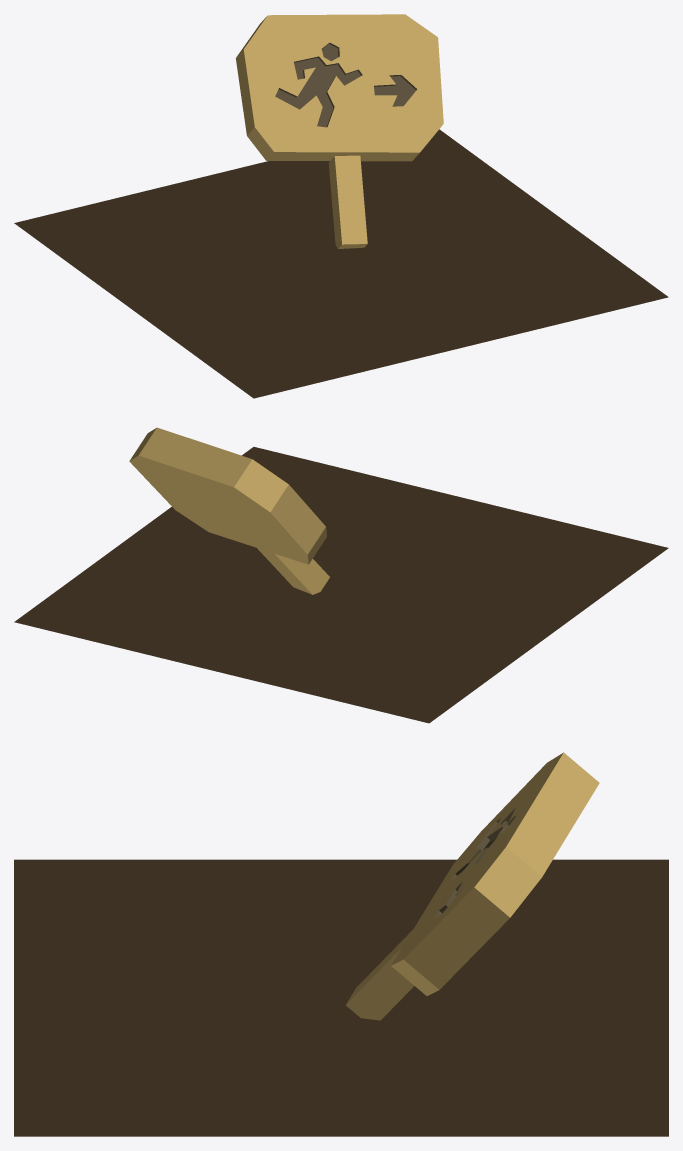
Rendered from ExitFloor.fbx.
The picture shows the model from 3 angles, top to bottom: view 1: azimuth 30°, elevation 25°; view 2: azimuth 150°, elevation 25°; view 3: azimuth 270°, elevation 25°; orthographic projection. The views are drawn at different scales.
Visible parts, largest first — view 1: ExitFloor; view 2: ExitFloor; view 3: ExitFloor.
Boxes of the visible parts, x1=… form: ExitFloor: x1=14, y1=14, x2=668, y2=398; ExitFloor: x1=14, y1=427, x2=668, y2=723; ExitFloor: x1=14, y1=752, x2=668, y2=1136.
Size of the model in its own units: 100 by 43.78 by 100.
